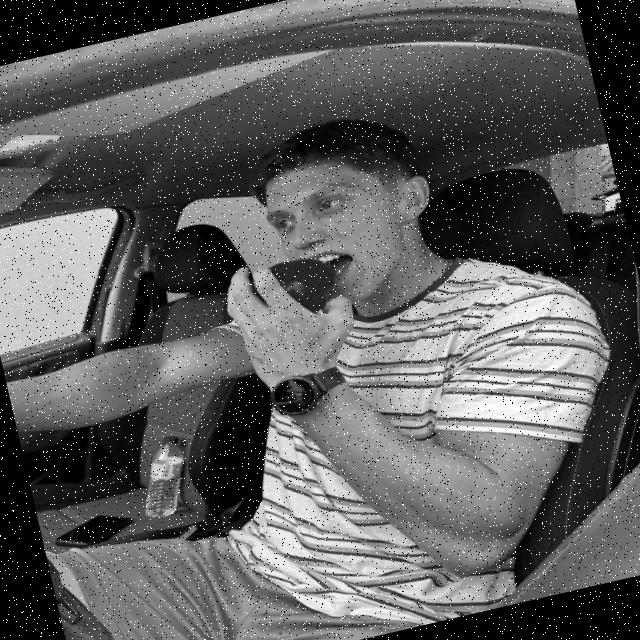Eating: (243, 248, 348, 330)
